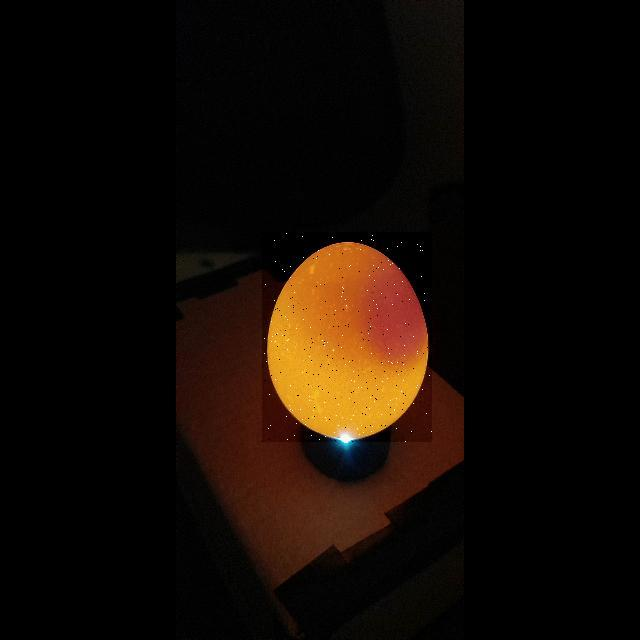A - Good: (262, 232, 432, 442)
